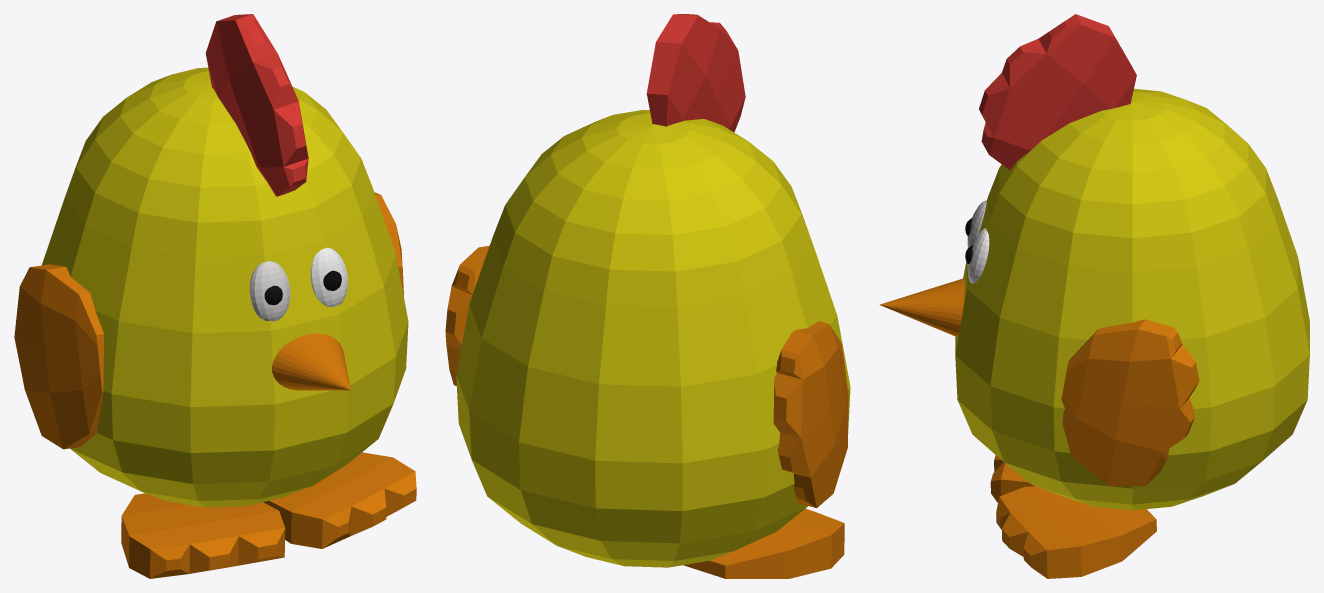
File: pollo amarillo.fbx
3 views of the same model, side by side, from view 1: azimuth 30°, elevation 25°; view 2: azimuth 150°, elevation 25°; view 3: azimuth 270°, elevation 25° (orthographic). The views are drawn at different scales.
Visible parts, largest first — view 1: Sphere.003, Cube.005, Cube.006, Cube.002, Cube.003, Cone, Sphere.004, Sphere.005, Cube.004; view 2: Sphere.003, Cube.005, Cube.006, Cube.002, Cube.004; view 3: Sphere.003, Cube.004, Cube.006, Cube.003, Cone, Cube.002, Sphere.005.
Boxes of the visible parts, x1,y1,x2,y2 form: Sphere.003: [42, 67, 408, 507]; Cube.005: [14, 264, 103, 449]; Cube.006: [205, 14, 308, 196]; Cube.002: [121, 493, 285, 578]; Cube.003: [263, 452, 416, 548]; Cone: [271, 333, 350, 390]; Sphere.004: [249, 261, 290, 321]; Sphere.005: [310, 247, 347, 307]; Cube.004: [374, 192, 403, 296]; Sphere.003: [456, 110, 850, 567]; Cube.005: [773, 321, 848, 508]; Cube.006: [646, 14, 745, 132]; Cube.002: [683, 508, 844, 578]; Cube.004: [445, 245, 489, 385]; Sphere.003: [955, 88, 1309, 510]; Cube.004: [1061, 319, 1199, 486]; Cube.006: [979, 14, 1136, 169]; Cube.003: [996, 486, 1156, 578]; Cone: [879, 278, 964, 336]; Cube.002: [990, 455, 1035, 502]; Sphere.005: [967, 228, 989, 283].
Size of the model in its own units: 782 by 1100 by 878.
